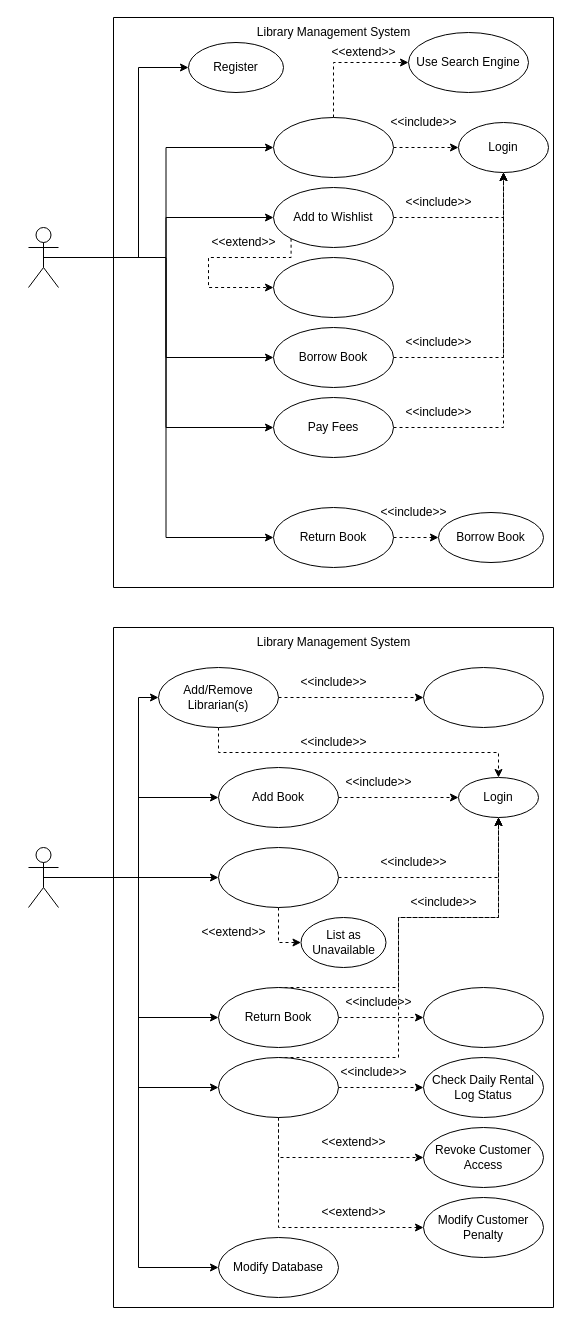
The diagram is 571 pixels wide and 1325 high, and some of its shapes have lost their labels. Each missing label, with the centre of its shape:
"Authorization" goes at [483,697].
"Browse Catalog" goes at [333,147].
"Customer" goes at [43,257].
"Librarian" goes at [43,877].
"Penalize Customer(s)" goes at [278,1087].
"Recieve Book" goes at [483,1017].
"Remove/Delete Book" goes at [278,877].
"Reveal Wishlist" goes at [333,287].
